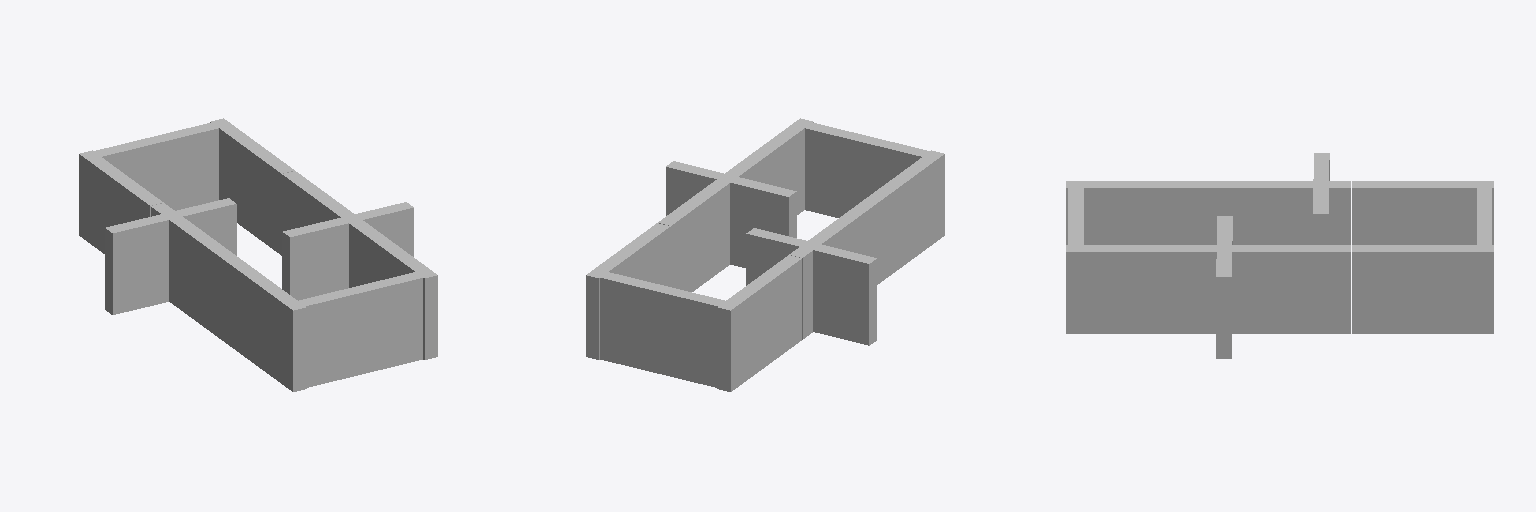
File: tutroomW.obj
3 views of the same model, side by side, from view 1: azimuth 30°, elevation 25°; view 2: azimuth 150°, elevation 25°; view 3: azimuth 270°, elevation 25° (orthographic).
Parts seen in each view (by area): view 1: Cube.001_Cube.015, Cube.001_Cube.011, Cube.001_Cube.019_Cube.001_Cube.021, Cube.001_Cube.002, Cube.001_Cube.017_Cube.001_Cube.019, Cube.001_Cube.005, Cube.001_Cube.007, Cube.001_Cube.004, Cube.001_Cube.012, Cube.001_Cube.008; view 2: Cube.001_Cube.002, Cube.001_Cube.004, Cube.001_Cube.019_Cube.001_Cube.021, Cube.001_Cube.015, Cube.001_Cube.011, Cube.001_Cube.017_Cube.001_Cube.019, Cube.001_Cube.008, Cube.001_Cube.005, Cube.001_Cube.012, Cube.001_Cube.007; view 3: Cube.001_Cube.005, Cube.001_Cube.012, Cube.001_Cube.008, Cube.001_Cube.004, Cube.001_Cube.011, Cube.001_Cube.007, Cube.001_Cube.017_Cube.001_Cube.019, Cube.001_Cube.019_Cube.001_Cube.021, Cube.001_Cube.015, Cube.001_Cube.002.
Boxes of the visible parts, box(x1,y1,x2,y2) form: Cube.001_Cube.015: box(295, 271, 423, 387); Cube.001_Cube.011: box(222, 255, 306, 391); Cube.001_Cube.019_Cube.001_Cube.021: box(105, 198, 236, 314); Cube.001_Cube.002: box(91, 123, 218, 210); Cube.001_Cube.017_Cube.001_Cube.019: box(282, 202, 413, 300); Cube.001_Cube.005: box(210, 118, 294, 255); Cube.001_Cube.007: box(151, 203, 234, 339); Cube.001_Cube.004: box(79, 150, 163, 253); Cube.001_Cube.012: box(353, 223, 437, 359); Cube.001_Cube.008: box(282, 171, 365, 287); Cube.001_Cube.002: box(600, 272, 728, 387); Cube.001_Cube.004: box(717, 255, 801, 391); Cube.001_Cube.019_Cube.001_Cube.021: box(746, 228, 876, 345); Cube.001_Cube.015: box(803, 122, 932, 217); Cube.001_Cube.011: box(860, 150, 944, 284); Cube.001_Cube.017_Cube.001_Cube.019: box(666, 161, 796, 267); Cube.001_Cube.008: box(658, 171, 741, 291); Cube.001_Cube.005: box(586, 223, 670, 359); Cube.001_Cube.012: box(729, 118, 813, 214); Cube.001_Cube.007: box(789, 203, 873, 339); Cube.001_Cube.005: box(1352, 245, 1493, 333); Cube.001_Cube.012: box(1066, 245, 1207, 333); Cube.001_Cube.008: box(1208, 245, 1350, 333); Cube.001_Cube.004: box(1352, 181, 1493, 244); Cube.001_Cube.011: box(1066, 181, 1207, 244); Cube.001_Cube.007: box(1208, 181, 1350, 244); Cube.001_Cube.017_Cube.001_Cube.019: box(1216, 216, 1232, 358); Cube.001_Cube.019_Cube.001_Cube.021: box(1313, 153, 1329, 244); Cube.001_Cube.015: box(1068, 186, 1083, 245); Cube.001_Cube.002: box(1477, 186, 1491, 244).
Bounding box in the file's own units: 14.19 × 4.39 × 20.84.